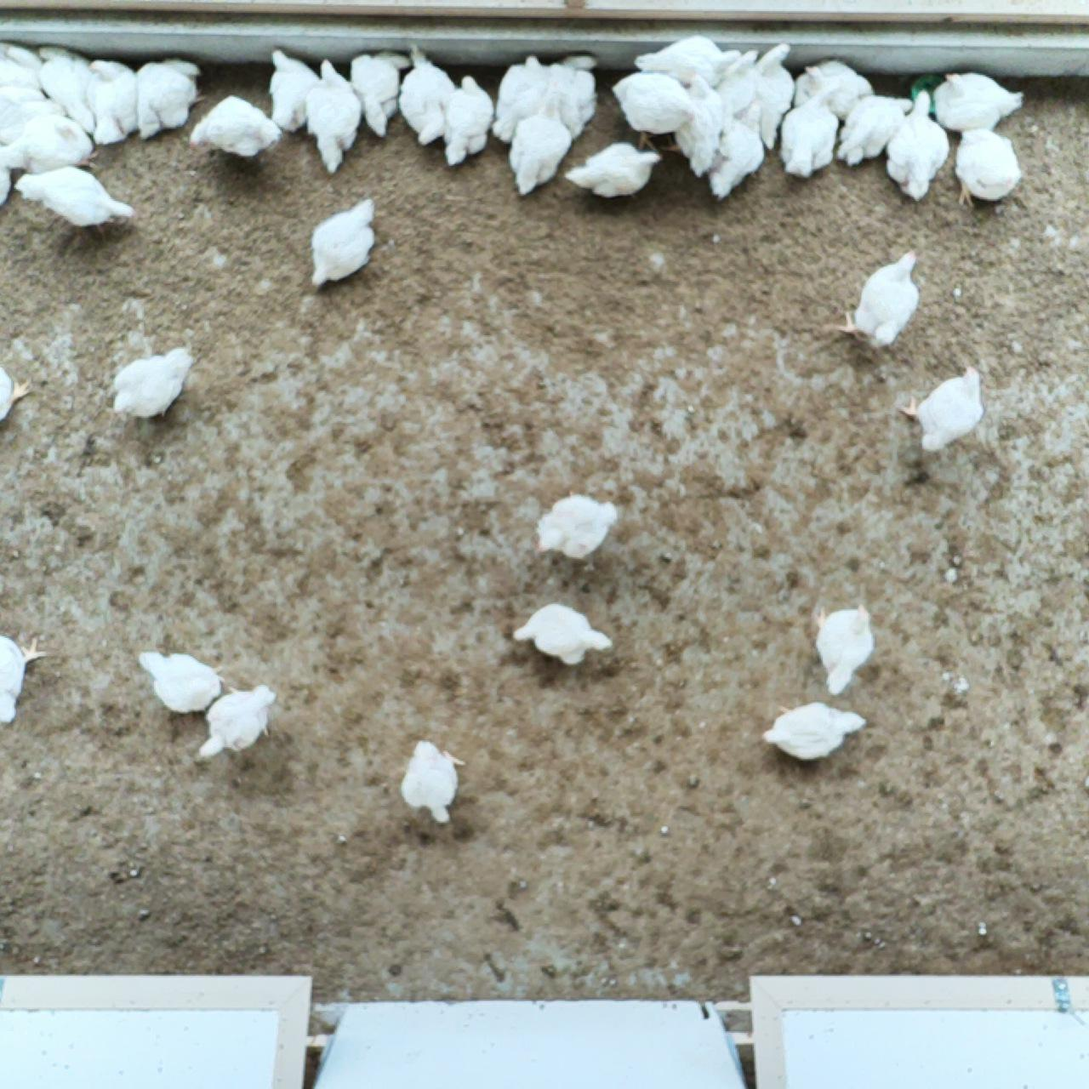chicken: (839, 247, 926, 354), (14, 163, 139, 237), (895, 363, 989, 456), (883, 85, 953, 204), (303, 194, 380, 292), (761, 698, 867, 767), (610, 68, 694, 154), (110, 343, 197, 426), (304, 56, 364, 176), (511, 601, 619, 667), (931, 69, 1031, 140), (394, 734, 469, 828), (194, 680, 277, 764), (562, 137, 666, 204), (185, 91, 283, 162), (534, 487, 624, 564), (810, 603, 879, 702), (507, 97, 574, 197), (775, 84, 842, 183), (133, 647, 229, 716), (704, 99, 767, 204), (665, 69, 728, 174), (788, 54, 877, 126), (949, 124, 1025, 208), (397, 44, 458, 148), (633, 33, 743, 90), (0, 111, 101, 172), (833, 92, 915, 167), (491, 51, 553, 148), (349, 49, 414, 140), (137, 56, 206, 141), (35, 42, 98, 134), (439, 74, 496, 169), (83, 57, 141, 150), (0, 633, 50, 730), (268, 48, 322, 135), (755, 40, 797, 150), (549, 51, 602, 135), (0, 88, 67, 145), (712, 44, 763, 111), (0, 365, 37, 430), (0, 41, 47, 91), (0, 159, 12, 208)
